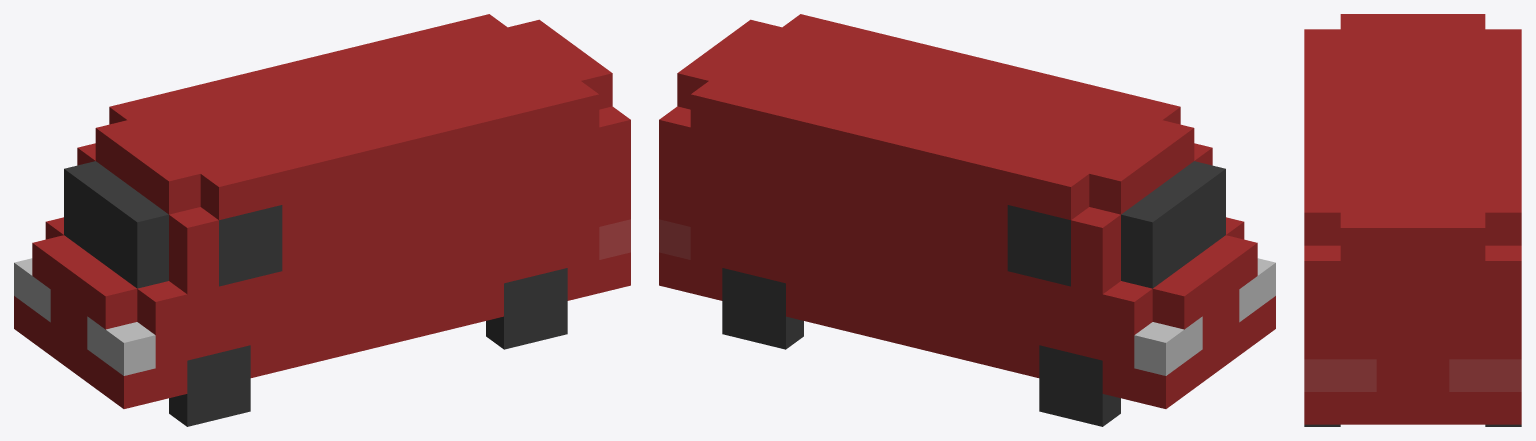
Rendered from truck-v1-red.gltf.
The picture shows the model from 3 angles, left to right: view 1: azimuth 30°, elevation 25°; view 2: azimuth 150°, elevation 25°; view 3: azimuth 270°, elevation 25°; orthographic projection.
Parts seen in each view (by area): view 1: model, wheels; view 2: model, wheels; view 3: model, wheels.
Part boxes in pixels (x1,y1,x2,y2): model: (14, 14, 630, 408); wheels: (169, 268, 567, 426); model: (659, 14, 1275, 408); wheels: (722, 268, 1120, 426); model: (1304, 14, 1521, 424); wheels: (1304, 424, 1521, 426).
Size of the model in its own units: 1.6 by 0.7 by 0.6.
Materials: 2 (2 with a texture image).
